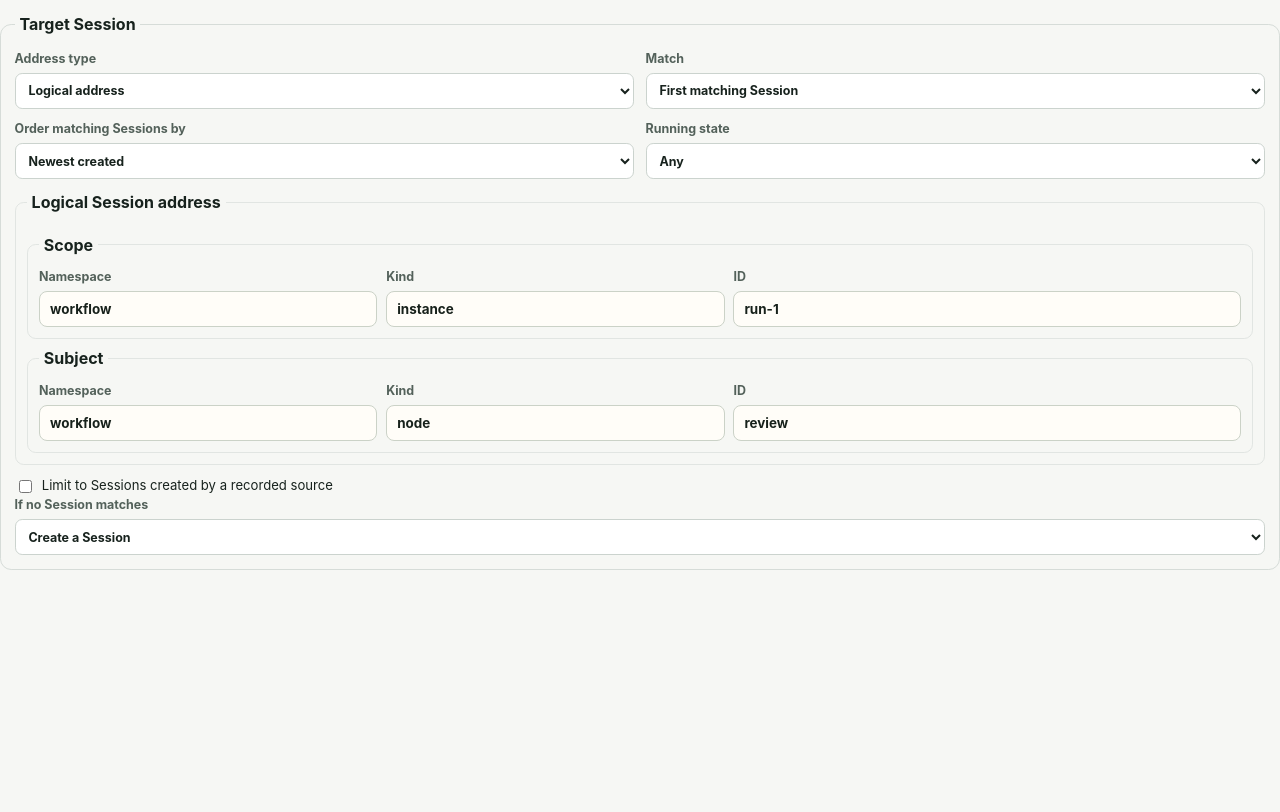
Session Event definition editors › prevents create-on-missing when an exact Session is selected
Select "Exact Session" in the dropdown labelled "Address type" at (324, 91), box [15,73,634,109]
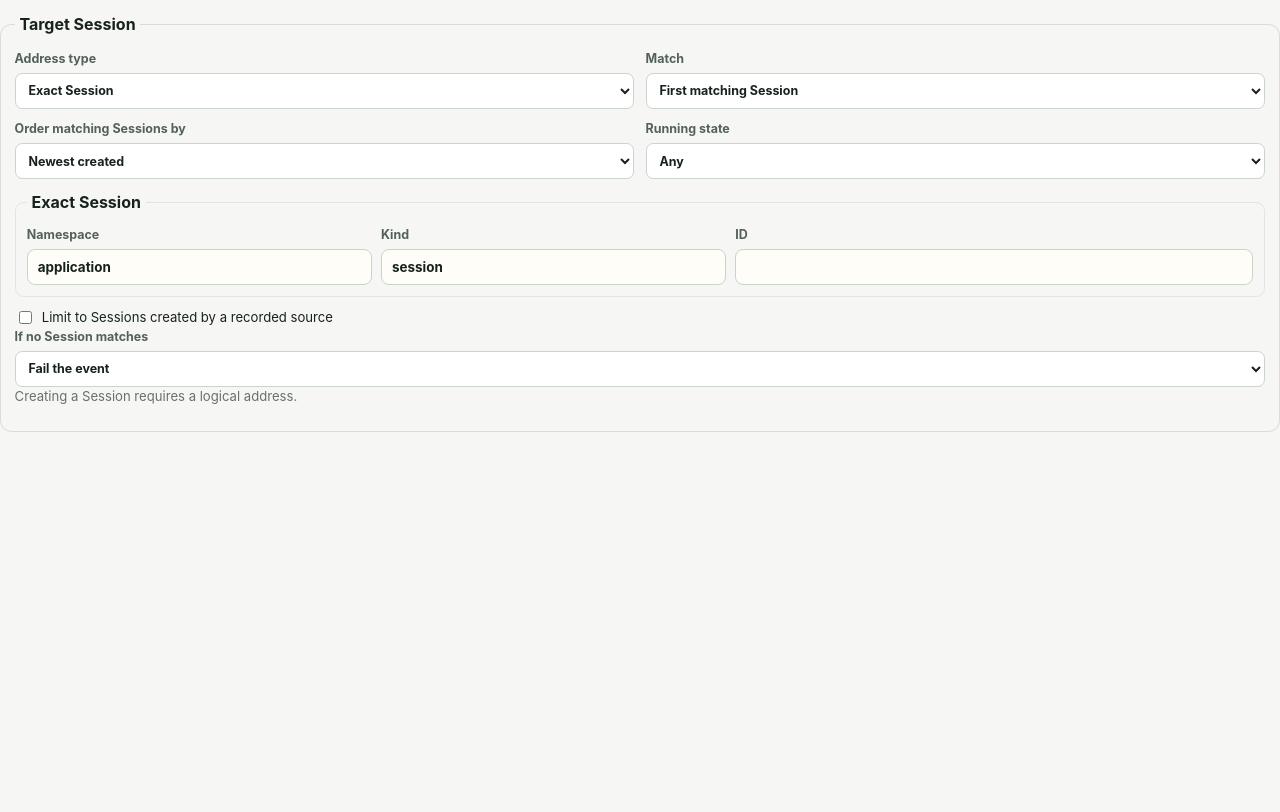
Result: the dropdown labelled "If no Session matches" shows "Fail the event" at [15,351,1265,387]
Result: the text "Creating a Session requires a logical address." is shown at [15,388,297,404]
